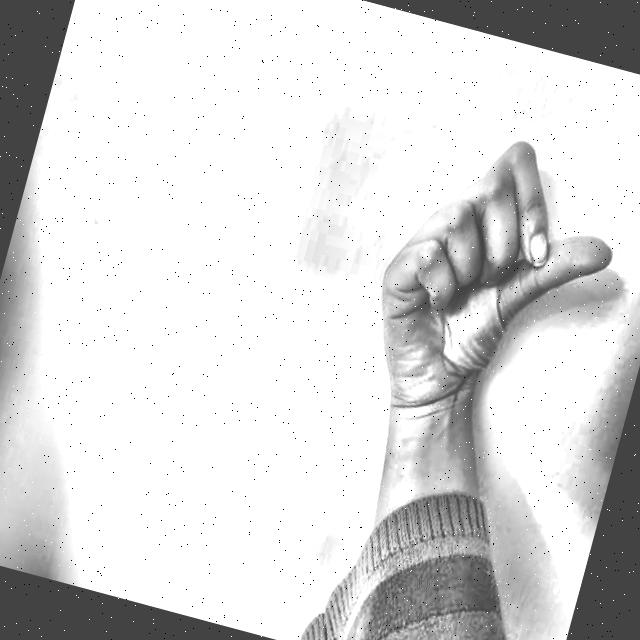Ay: (318, 73, 640, 487)
